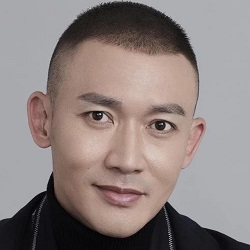unmask: (55, 68, 188, 239)
